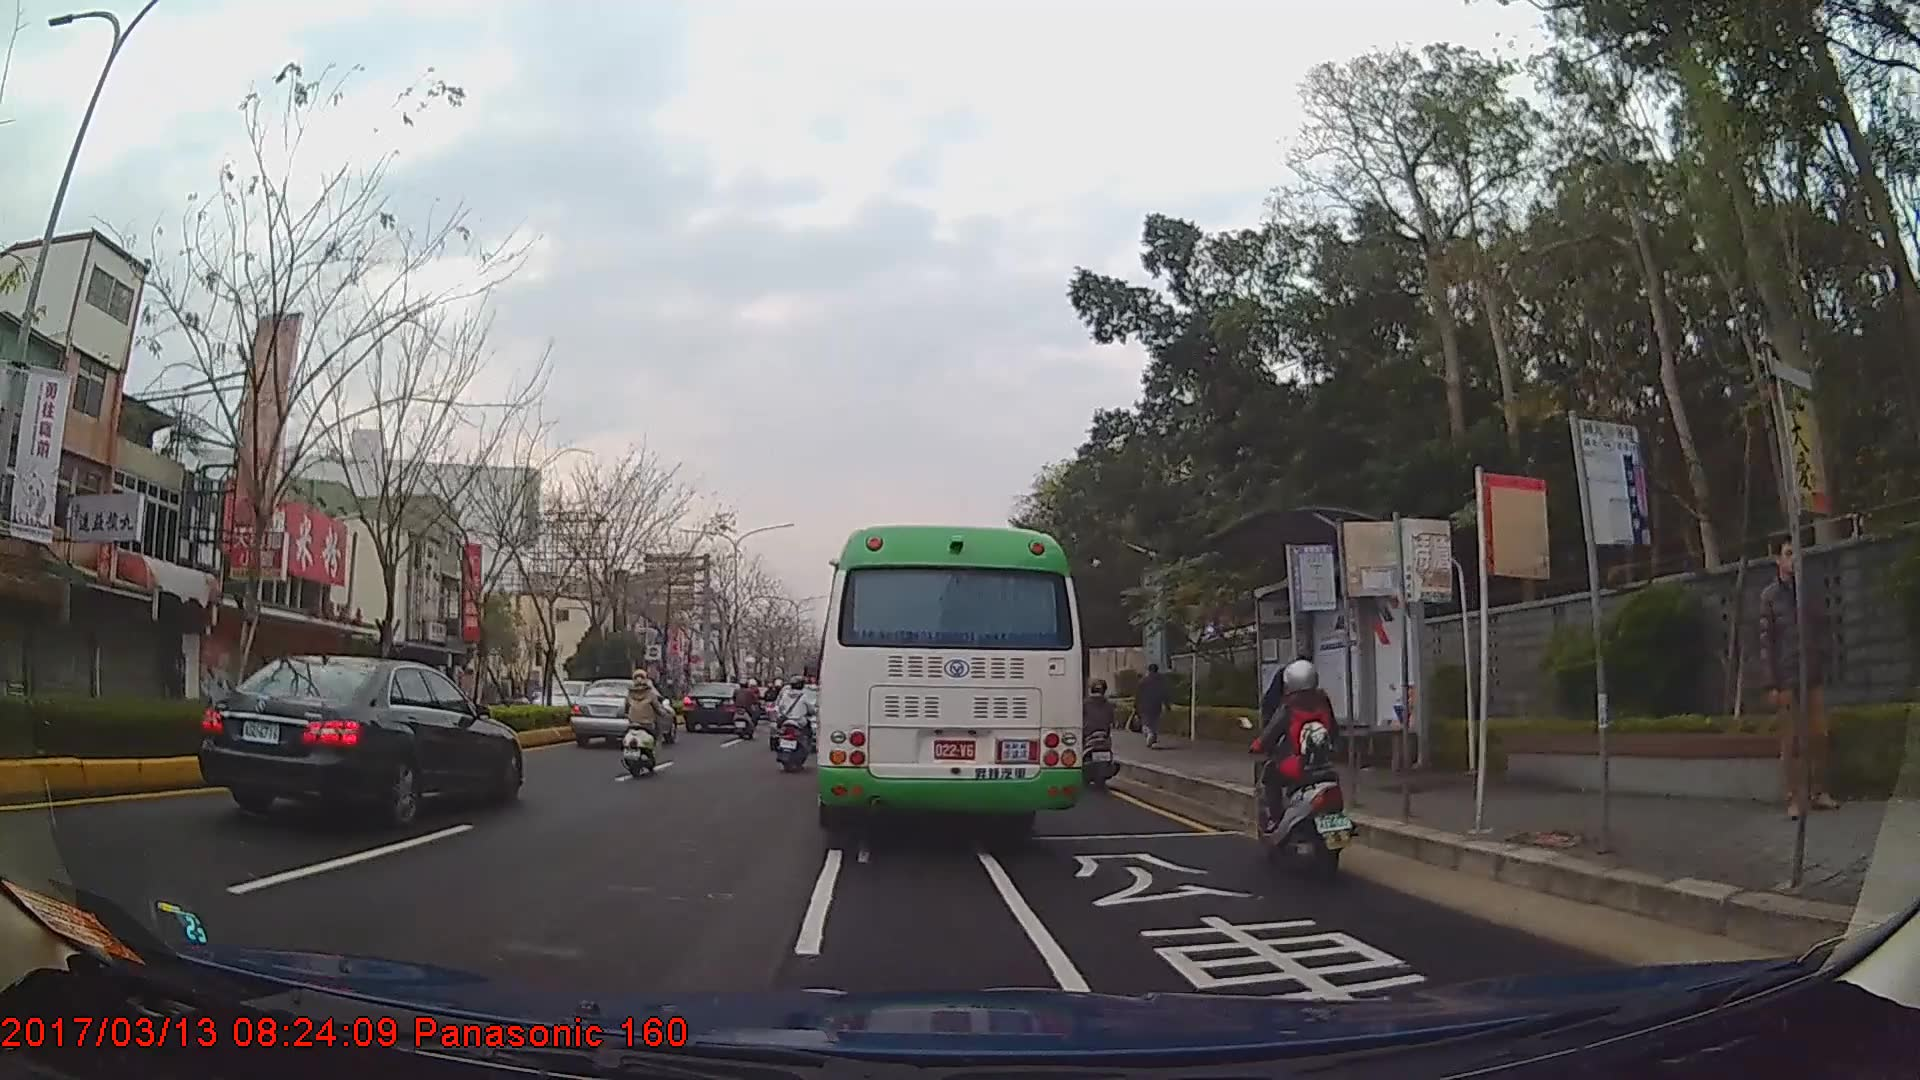pedestrian: (1758, 538, 1837, 821), (1258, 649, 1315, 766), (1132, 659, 1172, 748)
rider: (1253, 655, 1359, 876), (1077, 675, 1127, 791), (621, 666, 670, 776), (779, 674, 819, 773), (734, 676, 761, 737)
vehicle: (814, 521, 1087, 834), (193, 654, 521, 828), (570, 677, 678, 747), (684, 676, 751, 730)
